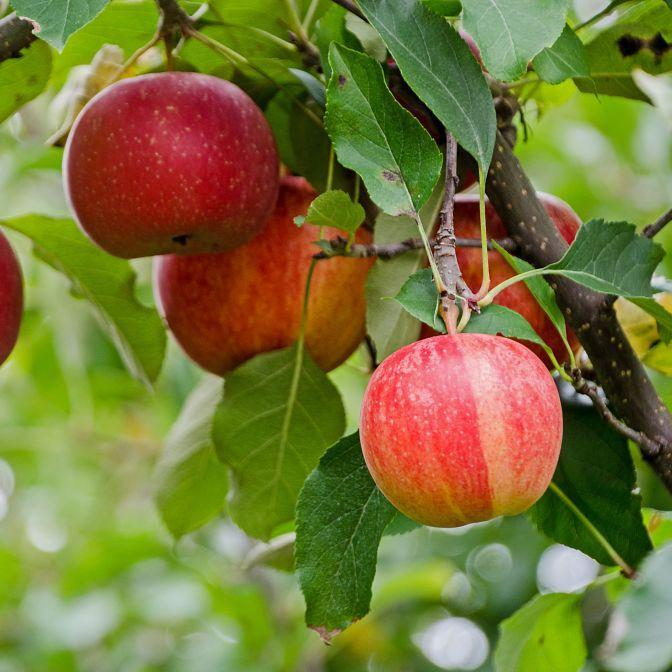apple: (154, 171, 374, 386), (63, 71, 281, 268), (361, 331, 567, 530), (422, 185, 584, 368)
